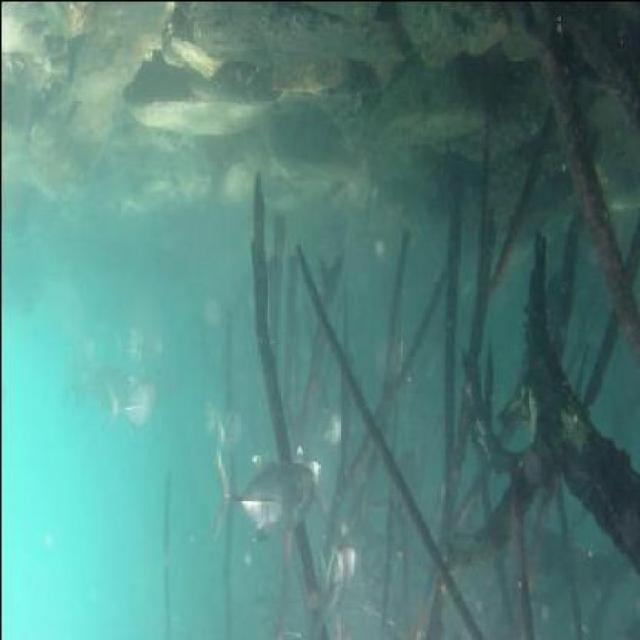Caranx_sexfasciatus_juvenile: (210, 426, 318, 552), (56, 356, 129, 429), (312, 533, 365, 615), (108, 373, 161, 432), (199, 388, 235, 458), (316, 388, 346, 458)
